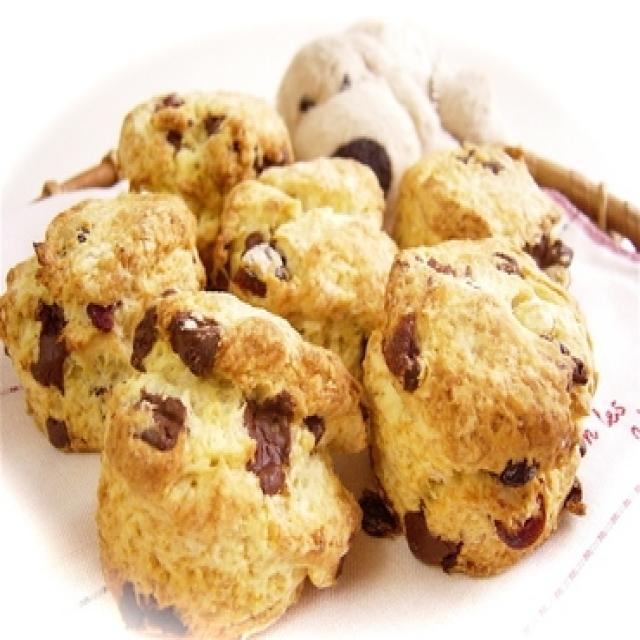面包点心: (4, 35, 636, 608)
